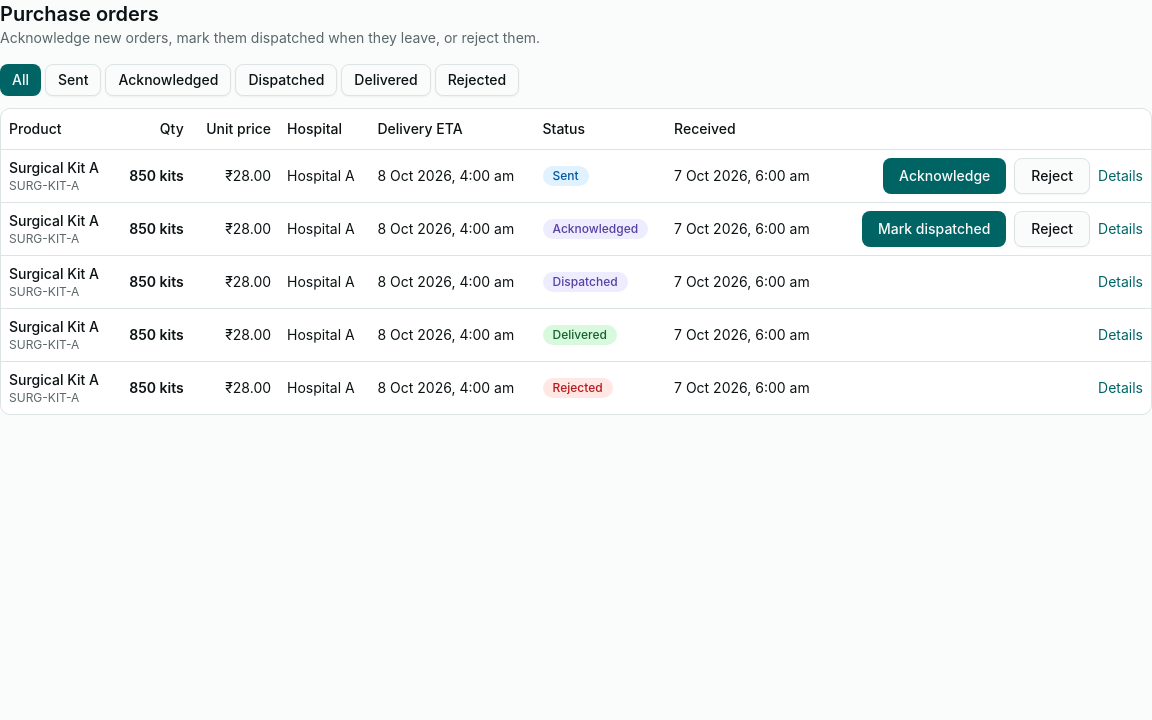
Test: Purchase orders › acknowledges without a reason: no body, so the hub records its own wording
This screenshot has width=1152, height=720.
What coordinates should you click on to do the following:
click the button "Acknowledge"
I would click on:
 (945, 176)
Its box is [883,158,1006,194].
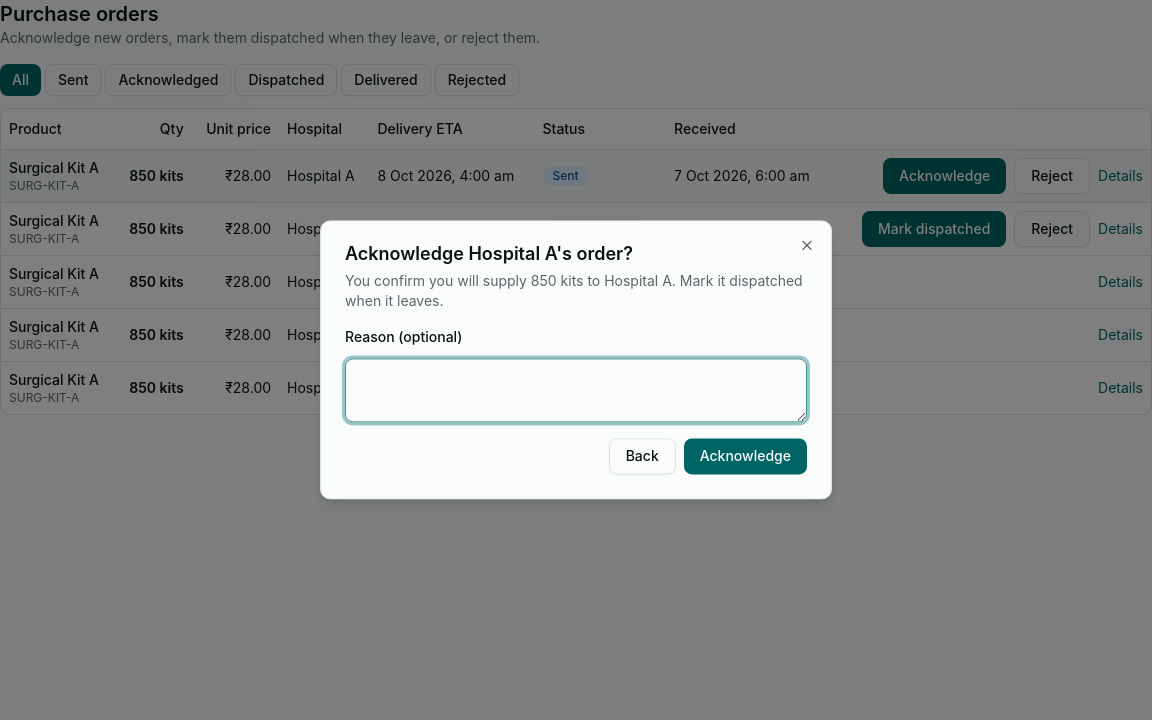
Check: the heading "Acknowledge Hospital A's order?" is shown, box [345,243,633,264]
What coordinates should you click on to do the following:
click the button "Acknowledge"
I would click on:
 (745, 457)
Its box is [684,439,807,475].
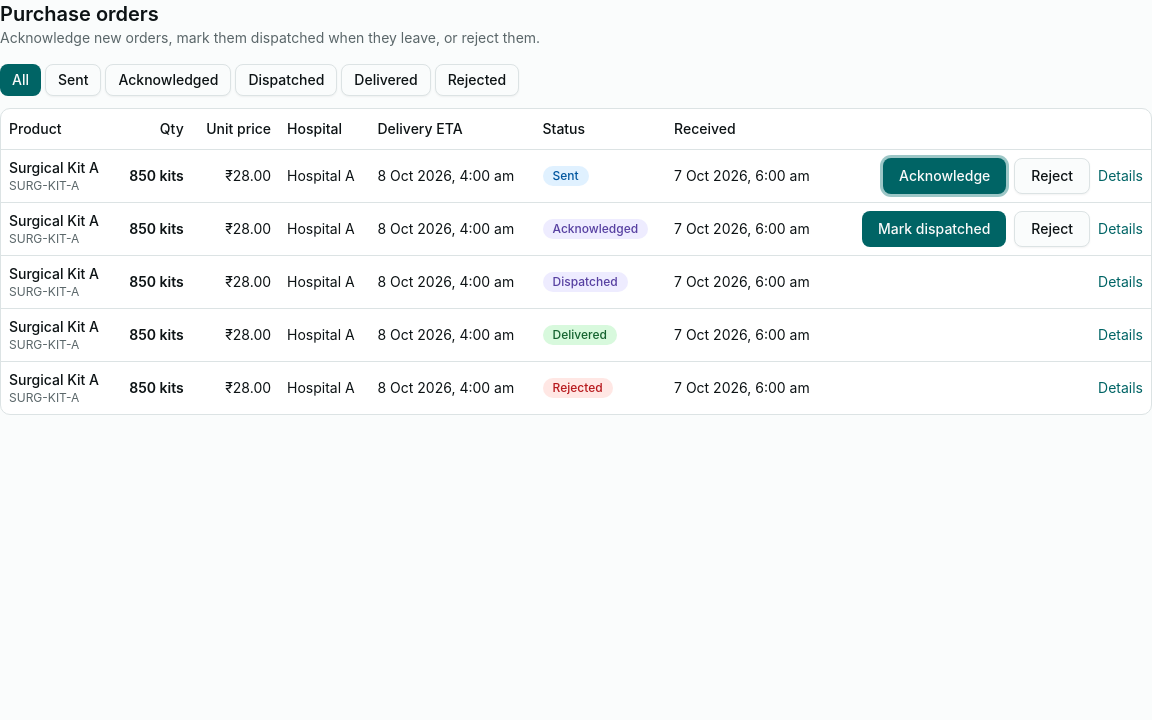
Check: the dialog is gone
